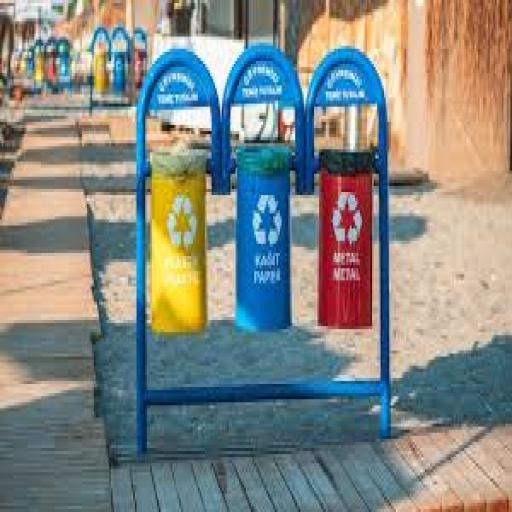poubelle_vide: (127, 93, 399, 350)
